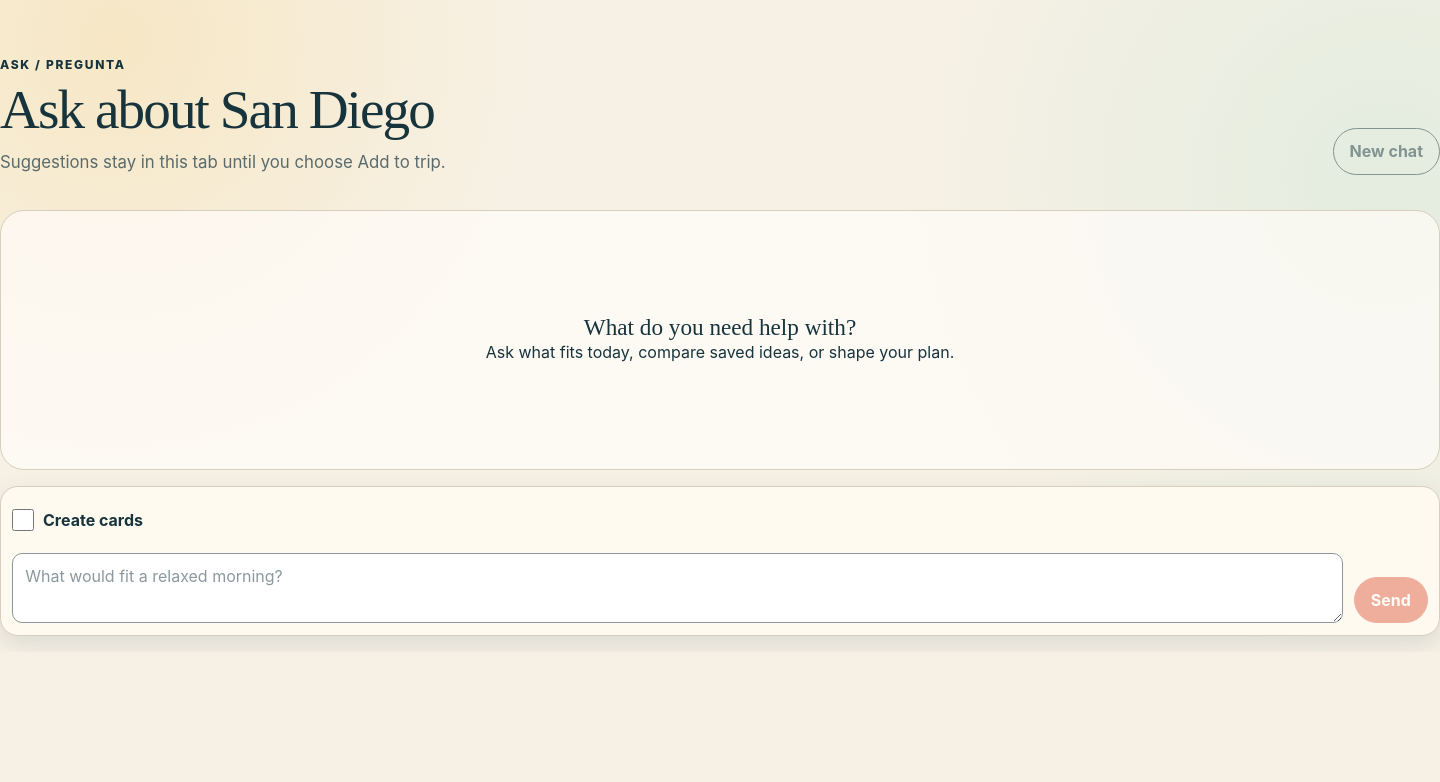
Scenario: submits a one-message Create cards choice and renders an unsourced event as a trip idea
Expected: the text box named "Ask about this trip" is enabled, [12,552,1343,623]
Click the checkbox labelled "Create cards" at [23, 520], box [12,509,34,531]
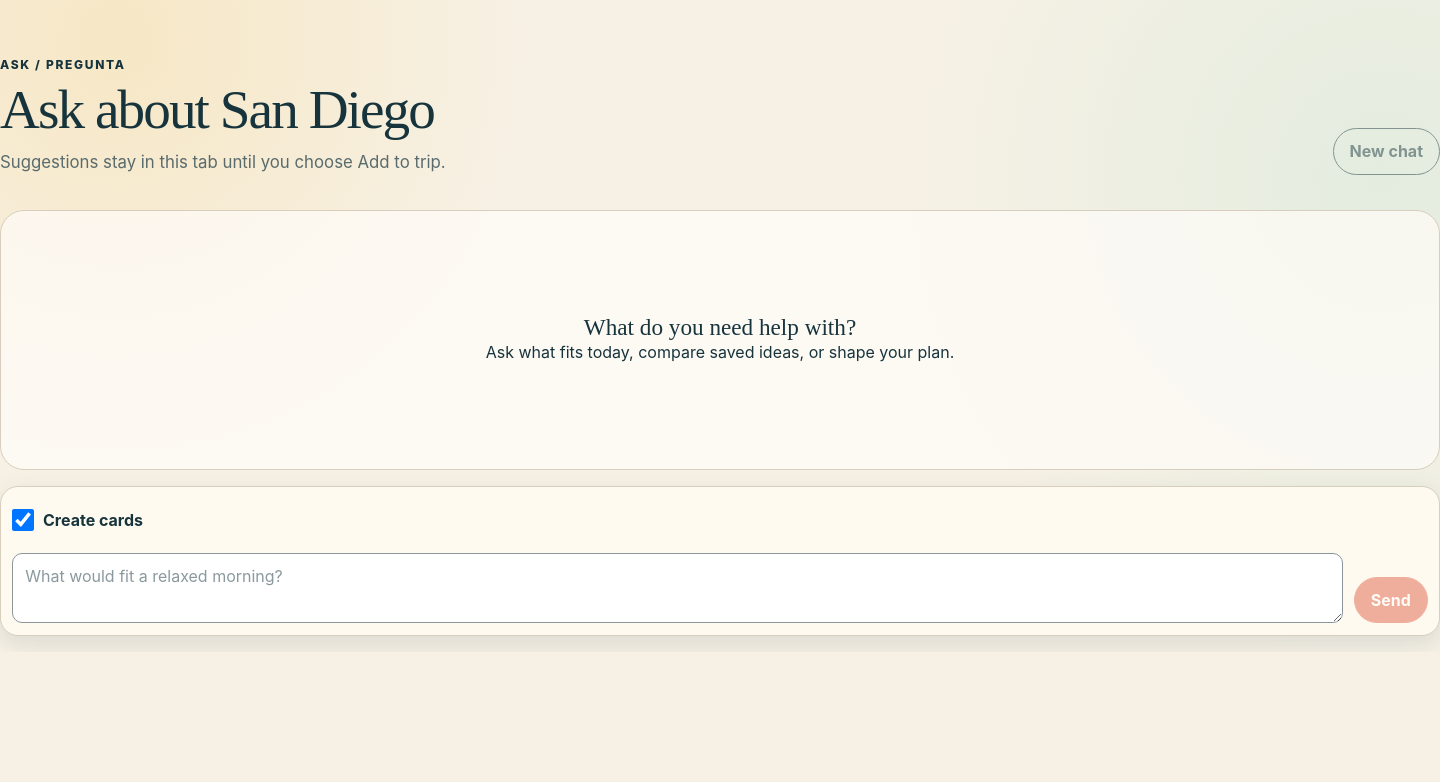
Type "Shakespeare in the Park on Friday" into the text box named "Ask about this trip" at [678, 588], box [12,552,1343,623]
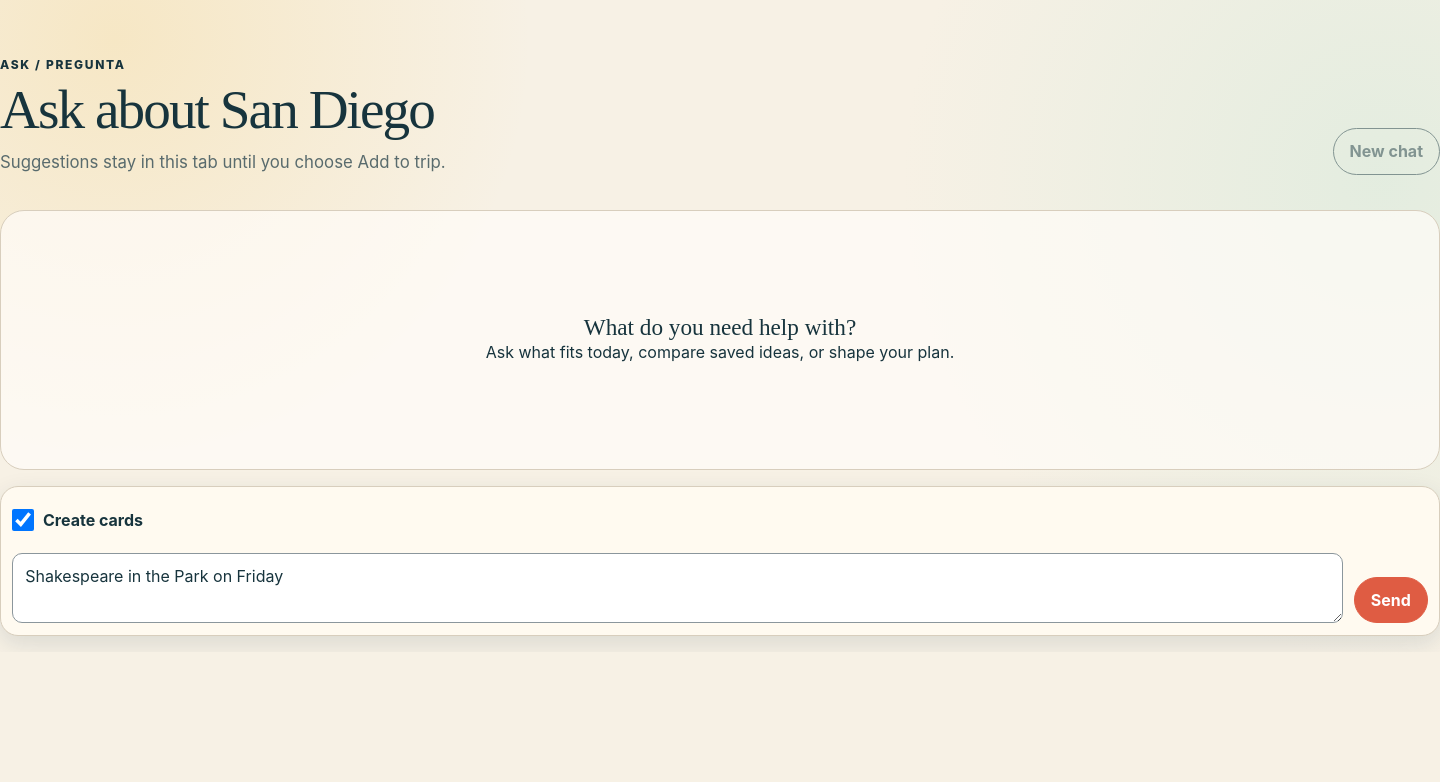
Press Enter in the text box named "Ask about this trip", box [12,552,1343,623]
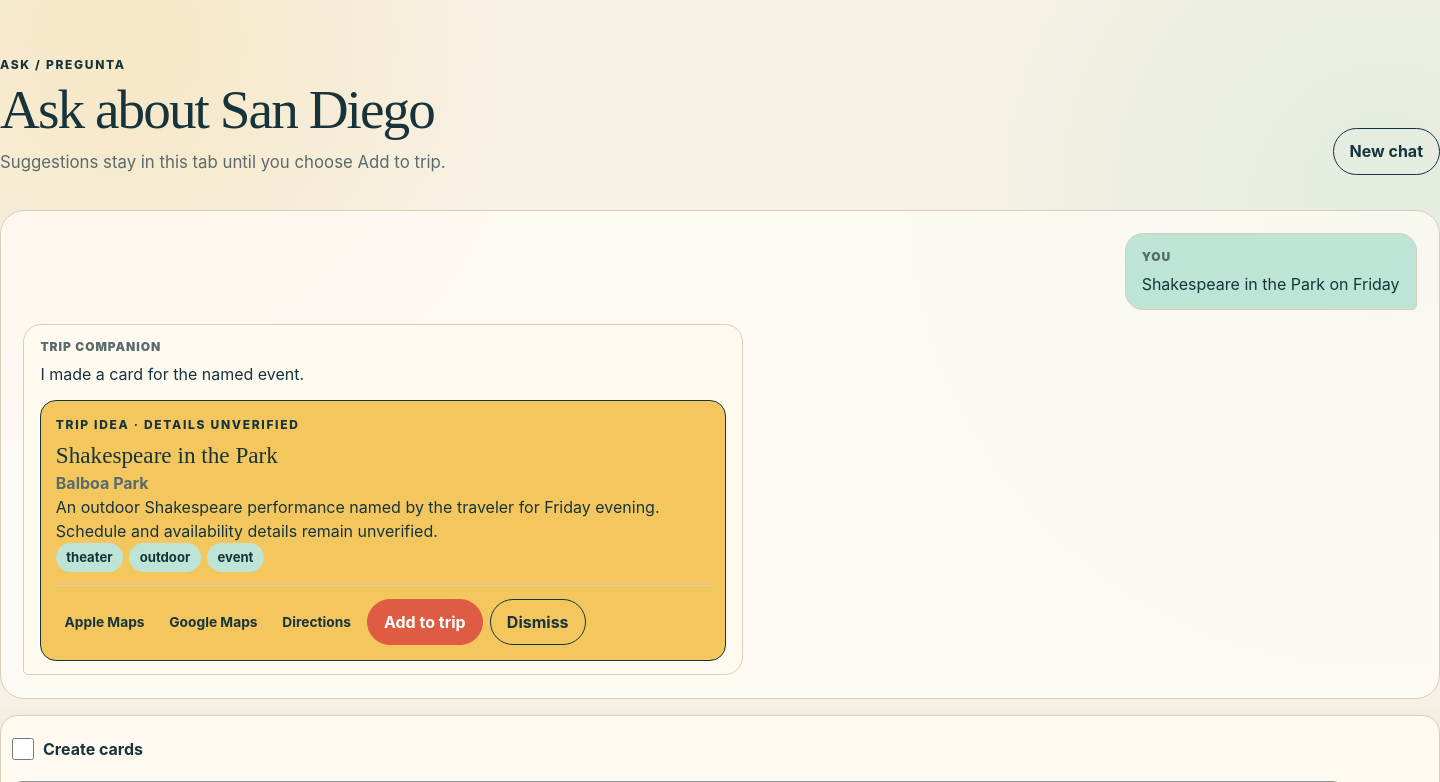
Expected: the checkbox labelled "Create cards" is not checked, [12,738,34,760]
Expected: the text "I made a card for the named event." is shown, [40,364,304,384]
Expected: the element "Shakespeare in the Park" shows "TRIP IDEA · DETAILS UNVERIFIED", [56,417,300,432]
